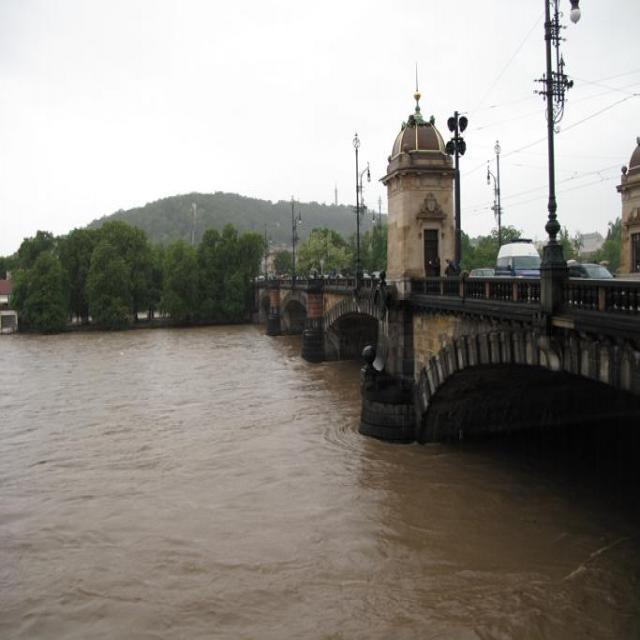flood: (0, 329, 620, 640)
